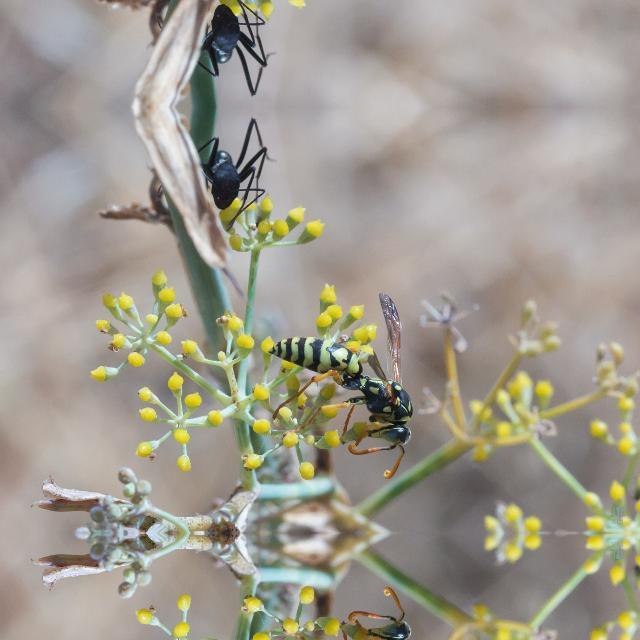Cataglyphis: (86, 106, 292, 230), (86, 0, 292, 106)
